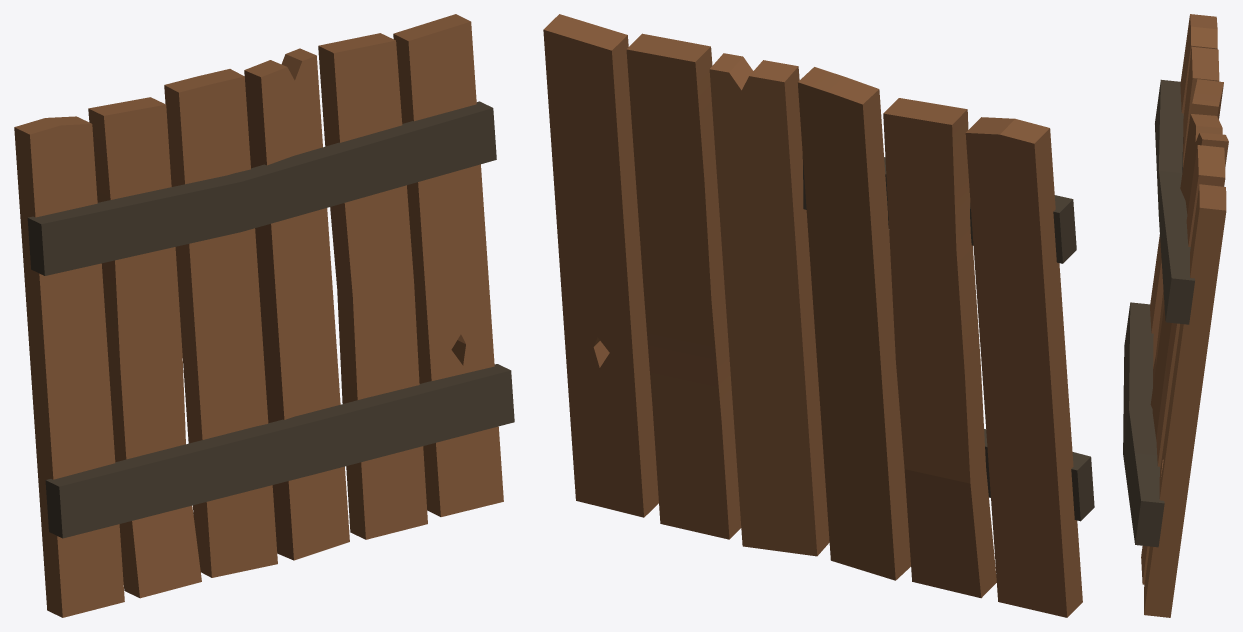
Rendered from Fence_Breakable_A (3).fbx.
3 views of the same model, side by side, from view 1: azimuth 30°, elevation 25°; view 2: azimuth 150°, elevation 25°; view 3: azimuth 270°, elevation 25° (orthographic). The views are drawn at different scales.
Parts seen in each view (by area): view 1: Fence_Breakable_A (3); view 2: Fence_Breakable_A (3); view 3: Fence_Breakable_A (3).
Part boxes in pixels (bbox=[...]): Fence_Breakable_A (3): bbox=[14, 14, 514, 617]; Fence_Breakable_A (3): bbox=[543, 14, 1094, 617]; Fence_Breakable_A (3): bbox=[1123, 14, 1228, 617].
Size of the model in its own units: 4.51 by 4.4 by 1.01.
